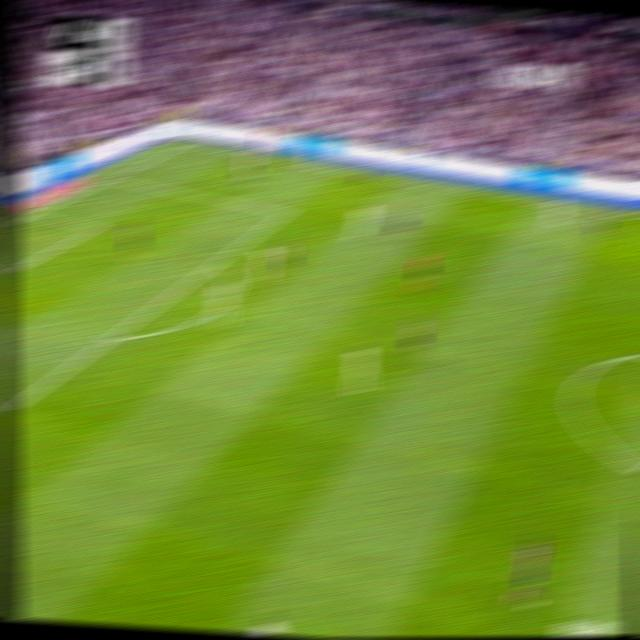bigarea_top_inner: (275, 204, 293, 219)
bigarea_top_outter: (103, 171, 121, 184)
bottom_arc_area_intersection: (100, 325, 123, 347)
corner: (177, 137, 196, 148)
smallarea_top_inner: (85, 220, 103, 232)
top_arc_area_intersection: (207, 251, 227, 268)
